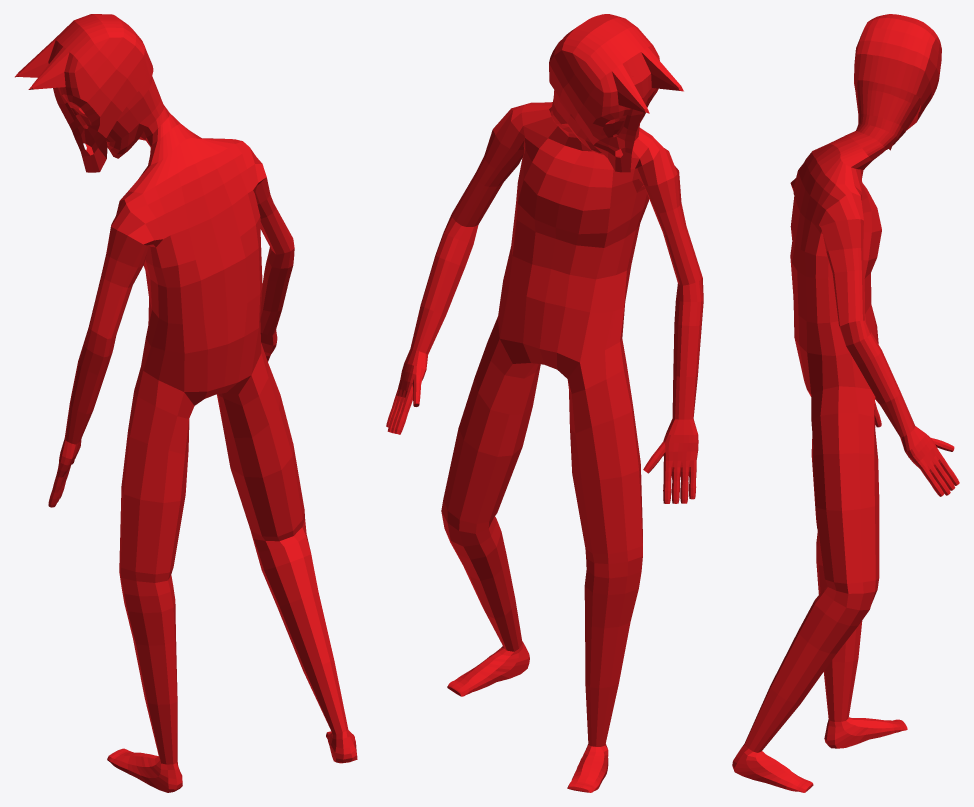
Rendered from reposoE_000246.obj.
The picture shows the model from 3 angles, left to right: view 1: azimuth 30°, elevation 25°; view 2: azimuth 150°, elevation 25°; view 3: azimuth 270°, elevation 25°; orthographic projection. The views are drawn at different scales.
Parts seen in each view (by area): view 1: Plane.002_Plane.001; view 2: Plane.002_Plane.001; view 3: Plane.002_Plane.001.
Boxes of the visible parts, x1=… form: Plane.002_Plane.001: x1=15, y1=14, x2=357, y2=792; Plane.002_Plane.001: x1=386, y1=14, x2=703, y2=792; Plane.002_Plane.001: x1=732, y1=14, x2=959, y2=792.
Size of the model in its own units: 2.66 by 6.98 by 2.03.
